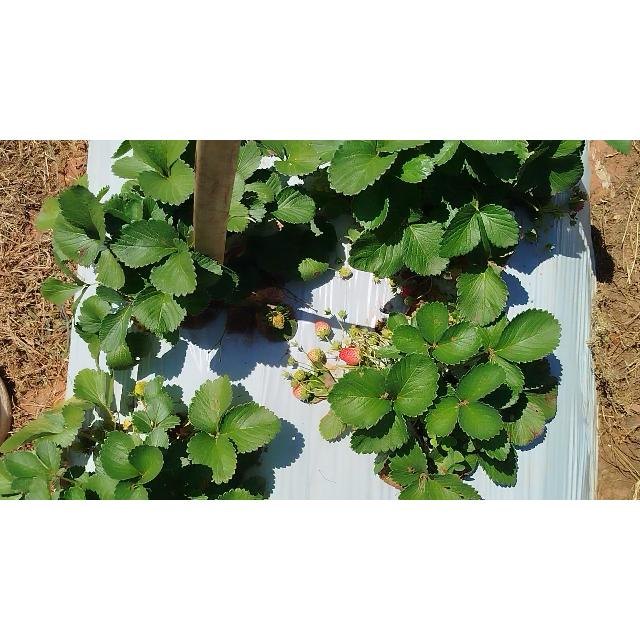no-maduro: (270, 312, 286, 330), (132, 381, 148, 395)
semi-maduro: (338, 346, 362, 366), (292, 383, 310, 401), (314, 319, 331, 337)
